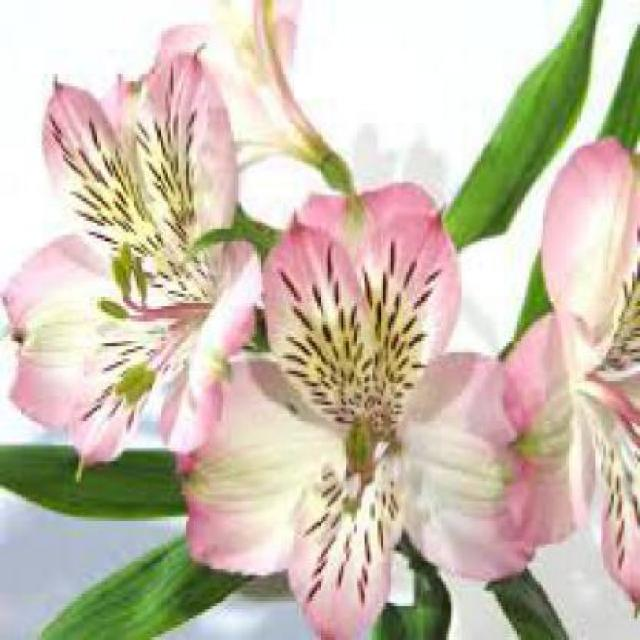Flower: (176, 182, 565, 638), (3, 22, 263, 483), (485, 139, 638, 622), (113, 245, 147, 297), (116, 362, 156, 405), (100, 297, 129, 318)
